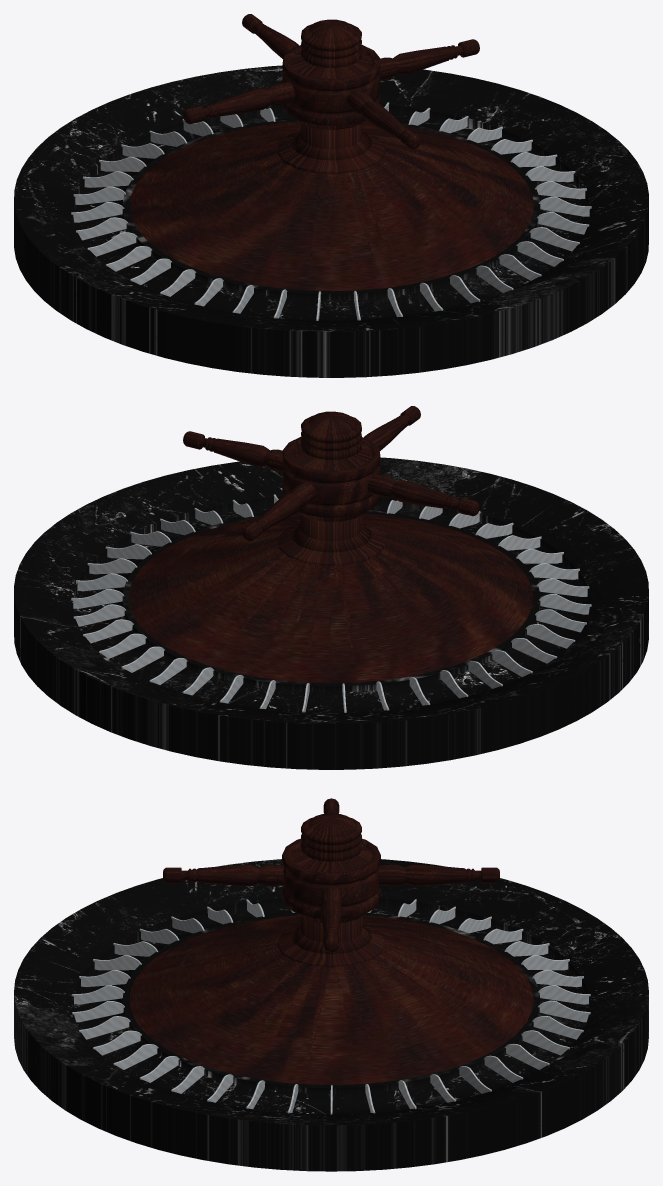
File: RoulleteDynamic.obj
The picture shows the model from 3 angles, top to bottom: view 1: azimuth 30°, elevation 25°; view 2: azimuth 150°, elevation 25°; view 3: azimuth 270°, elevation 25°; orthographic projection.
Parts seen in each view (by area): view 1: wheel_dynamic.002, wheel_inner_disk_dynamic.001, wheel_top_dynamic.001, wheel_dividers_dynamic.001; view 2: wheel_dynamic.002, wheel_inner_disk_dynamic.001, wheel_top_dynamic.001, wheel_dividers_dynamic.001; view 3: wheel_dynamic.002, wheel_inner_disk_dynamic.001, wheel_top_dynamic.001, wheel_dividers_dynamic.001.
Boxes of the visible parts, box(x1,y1,x2,y2) form: wheel_dynamic.002: box(14, 65, 648, 377); wheel_inner_disk_dynamic.001: box(129, 121, 533, 291); wheel_top_dynamic.001: box(183, 14, 479, 174); wheel_dividers_dynamic.001: box(71, 102, 591, 320); wheel_dynamic.002: box(14, 457, 648, 769); wheel_inner_disk_dynamic.001: box(129, 513, 533, 683); wheel_top_dynamic.001: box(183, 406, 479, 565); wheel_dividers_dynamic.001: box(71, 494, 591, 712); wheel_dynamic.002: box(14, 859, 648, 1171); wheel_inner_disk_dynamic.001: box(129, 915, 533, 1084); wheel_top_dynamic.001: box(163, 798, 499, 967); wheel_dividers_dynamic.001: box(72, 899, 590, 1114).
Bounding box in the file's own units: 65.66 × 24.96 × 65.66.
